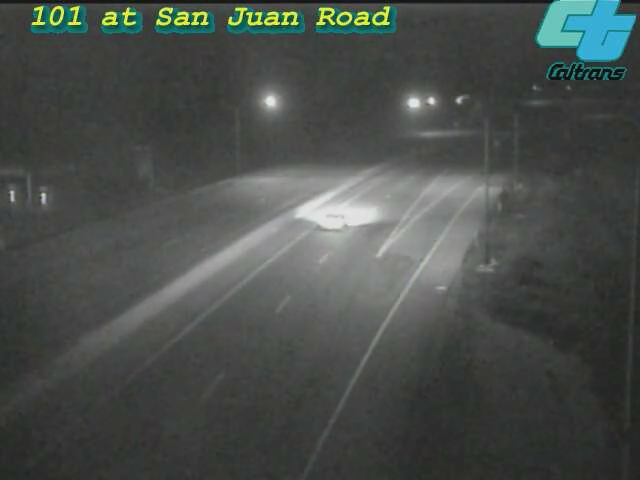vehicle: (288, 184, 368, 264)
